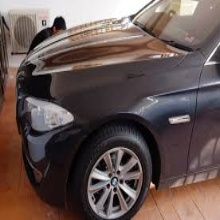no damage: (16, 1, 220, 220)
